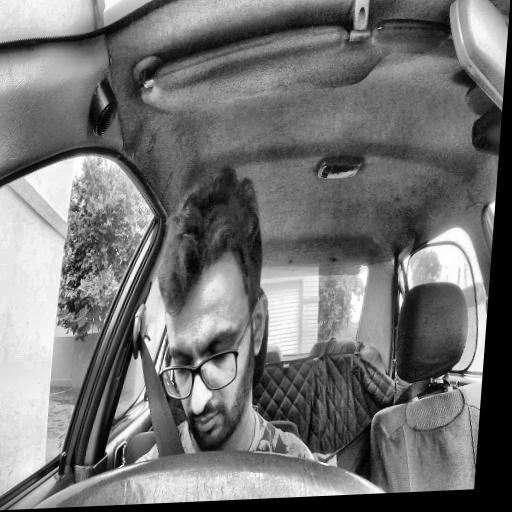drowsy: (144, 166, 277, 456)
